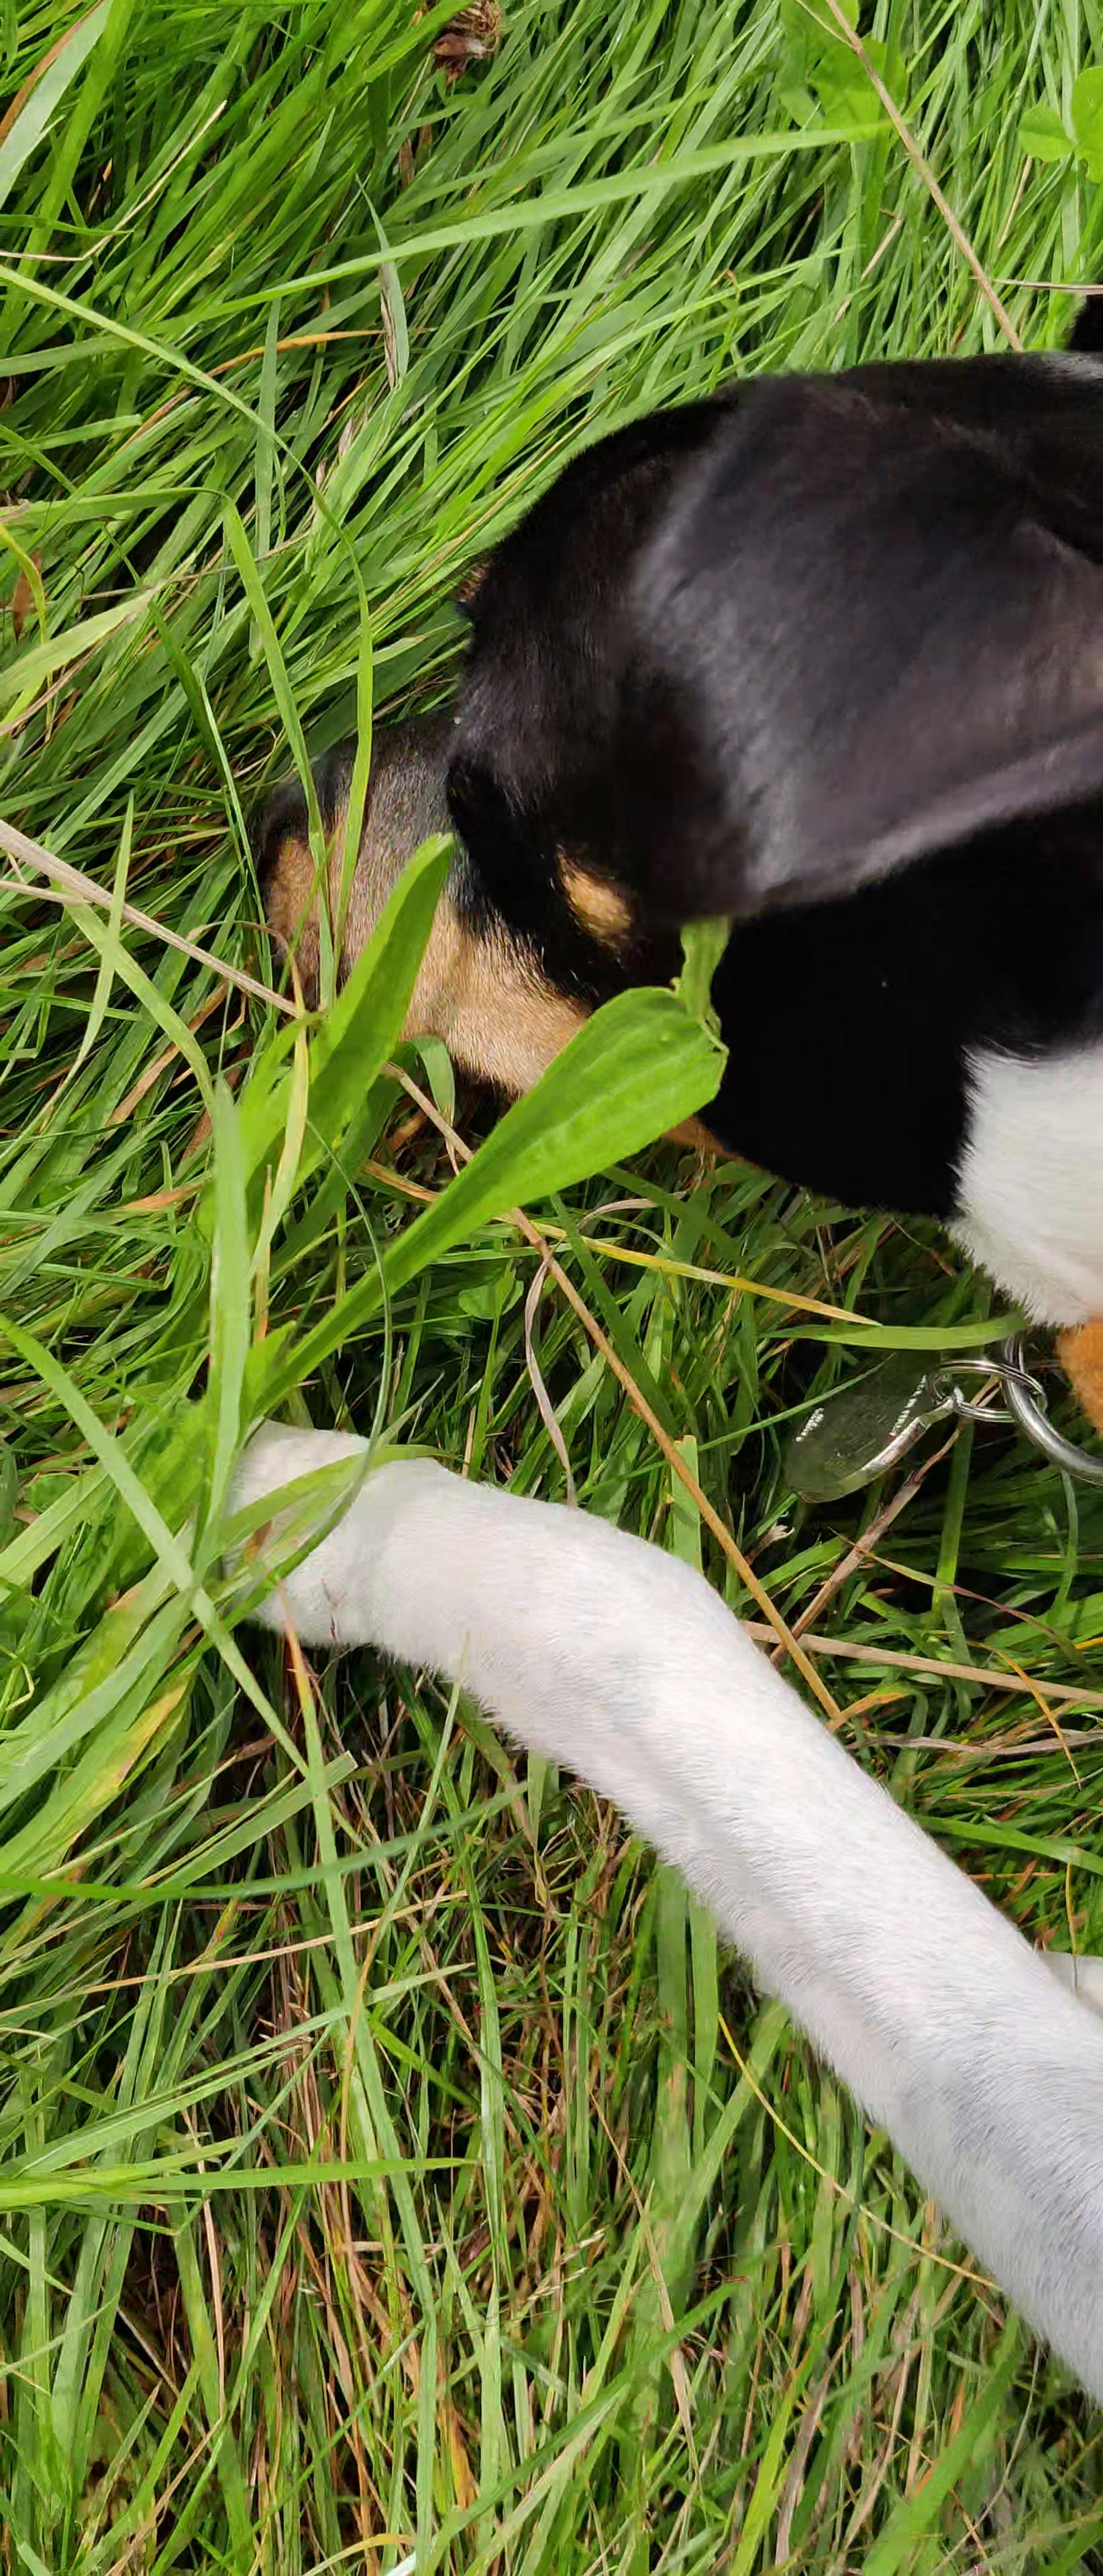Dog: (153, 248, 1103, 2449)
